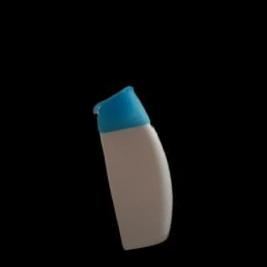Plastik: (93, 86, 171, 250)
